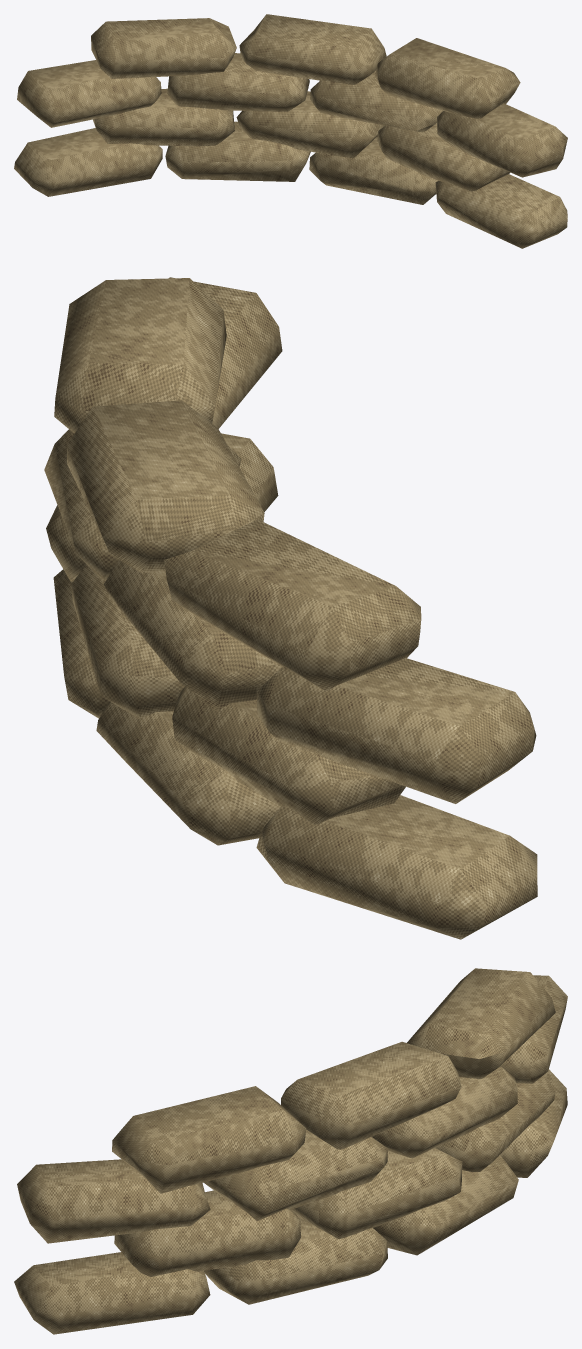
Rendered from sandbag_curve.glb.
3 views of the same model, one above another, from view 1: azimuth 30°, elevation 25°; view 2: azimuth 150°, elevation 25°; view 3: azimuth 270°, elevation 25° (orthographic). The views are drawn at different scales.
Visible parts, largest first — view 1: Sandbags; view 2: Sandbags; view 3: Sandbags.
Boxes of the visible parts, bbox=[...] form: Sandbags: bbox=[14, 14, 567, 248]; Sandbags: bbox=[44, 277, 537, 939]; Sandbags: bbox=[14, 968, 567, 1334].
Bounding box in the file's own units: 2.22 × 0.8385 × 2.2.
1 material, 1 textured.
